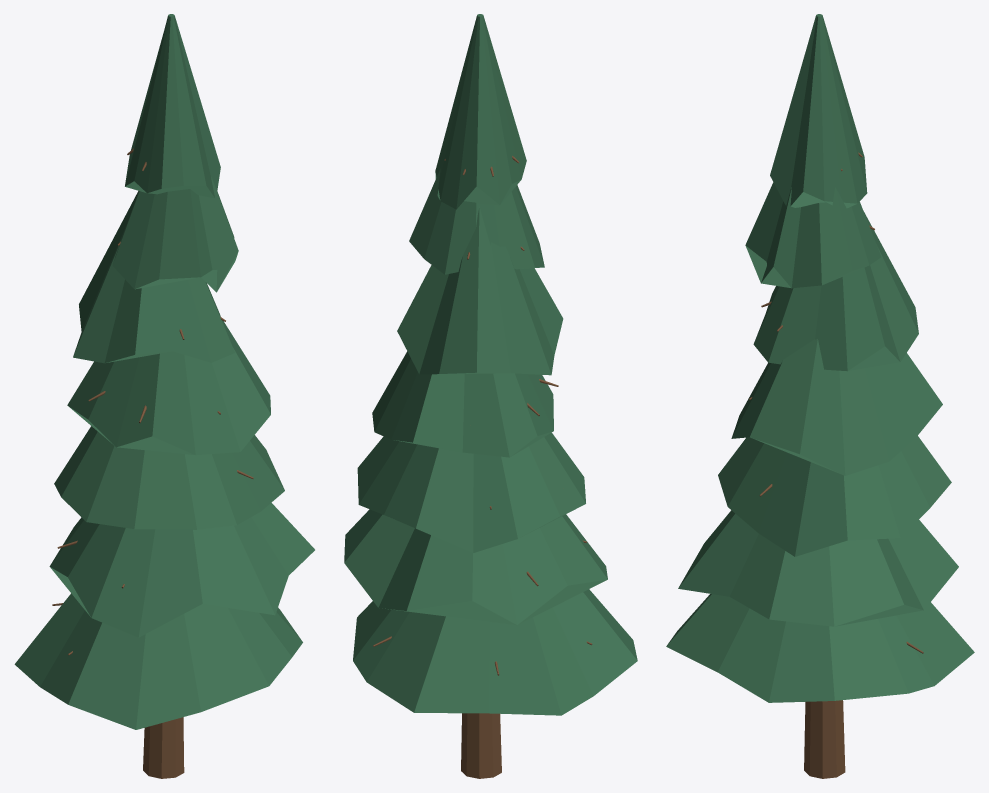
The model's file is pine-2.glb.
The picture shows the model from 3 angles, left to right: view 1: azimuth 30°, elevation 25°; view 2: azimuth 150°, elevation 25°; view 3: azimuth 270°, elevation 25°; orthographic projection.
Parts seen in each view (by area): view 1: pine-2; view 2: pine-2; view 3: pine-2.
Boxes of the visible parts, left/top/right/bottom form: pine-2: left=14, top=14, right=314, bottom=778; pine-2: left=344, top=14, right=637, bottom=778; pine-2: left=666, top=14, right=974, bottom=778.
Size of the model in its own units: 2.69 by 7.51 by 2.78.
